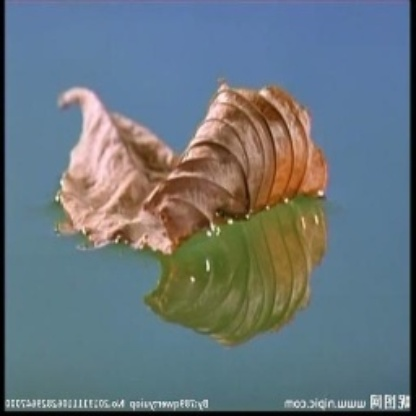leaf: (53, 79, 329, 254)
